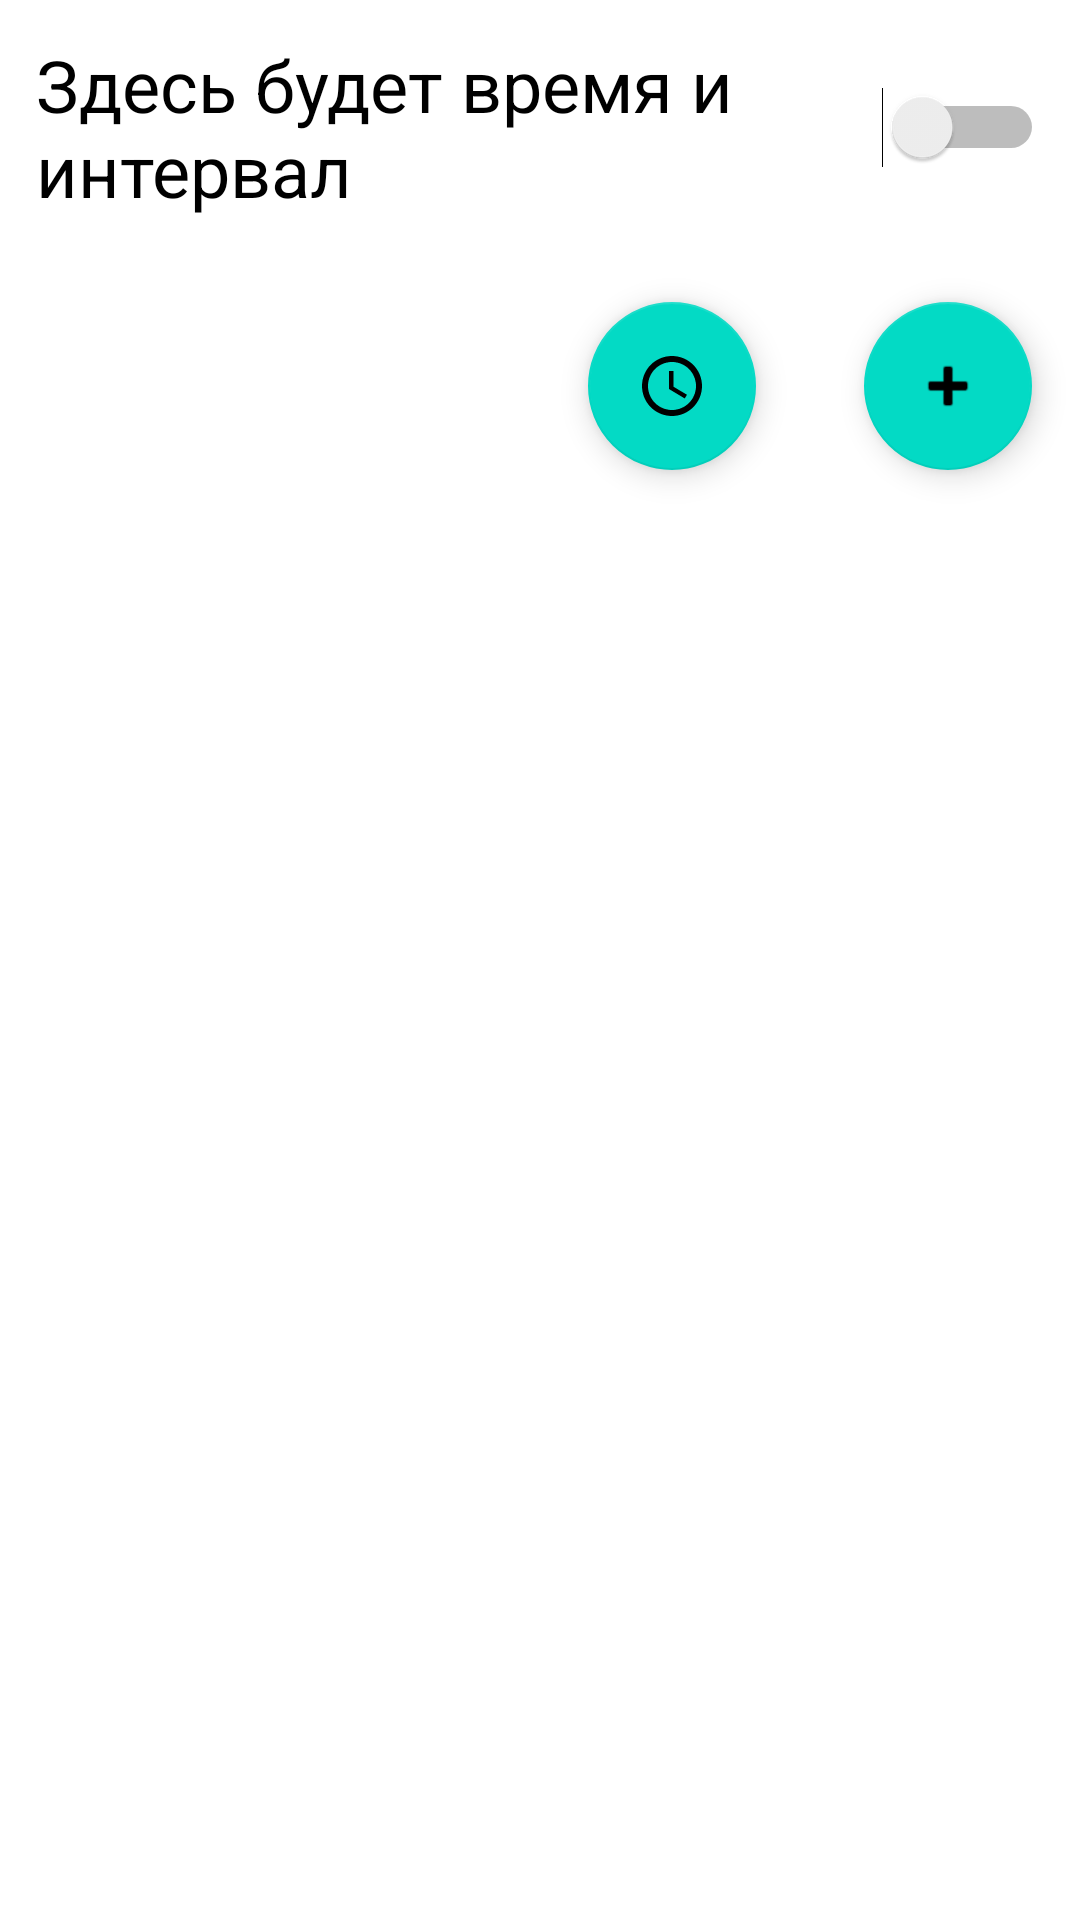

Where to tap for icons on this 1080px x 1920px app screen, as (x,y):
add: (948,386)
